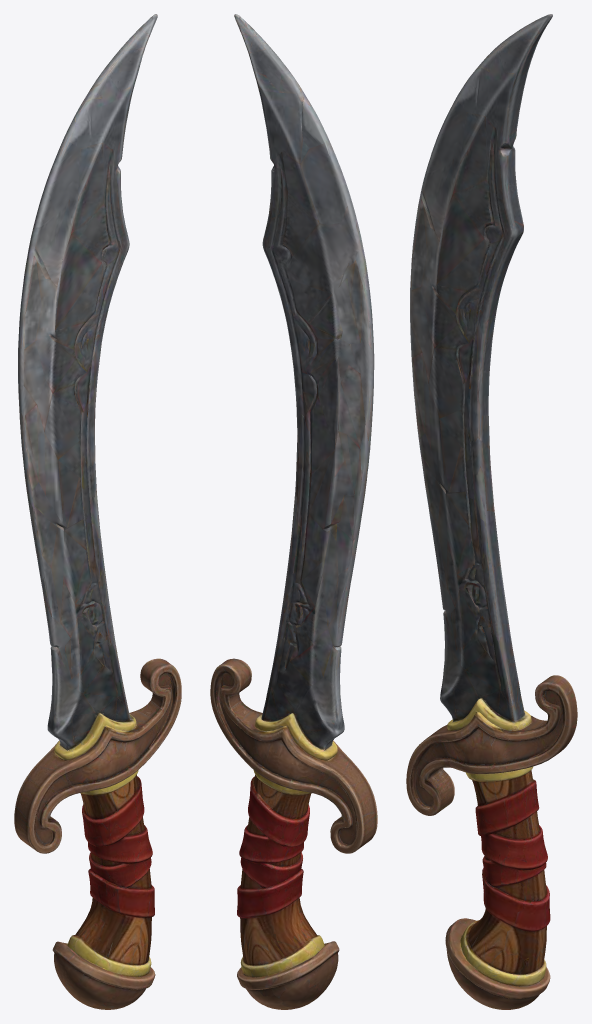
Rendered from scimitar.glb.
3 views of the same model, side by side, from view 1: azimuth 30°, elevation 25°; view 2: azimuth 150°, elevation 25°; view 3: azimuth 330°, elevation 25° (orthographic). The views are drawn at different scales.
Visible parts, largest first — view 1: Mesh_0; view 2: Mesh_0; view 3: Mesh_0.
Part boxes in pixels (x1=…): Mesh_0: x1=14, y1=14, x2=181, y2=1009; Mesh_0: x1=210, y1=14, x2=377, y2=1009; Mesh_0: x1=406, y1=14, x2=577, y2=1009.
Bounding box in the file's own units: 0.1541 × 0.9 × 0.0735.
1 material, 1 textured.
